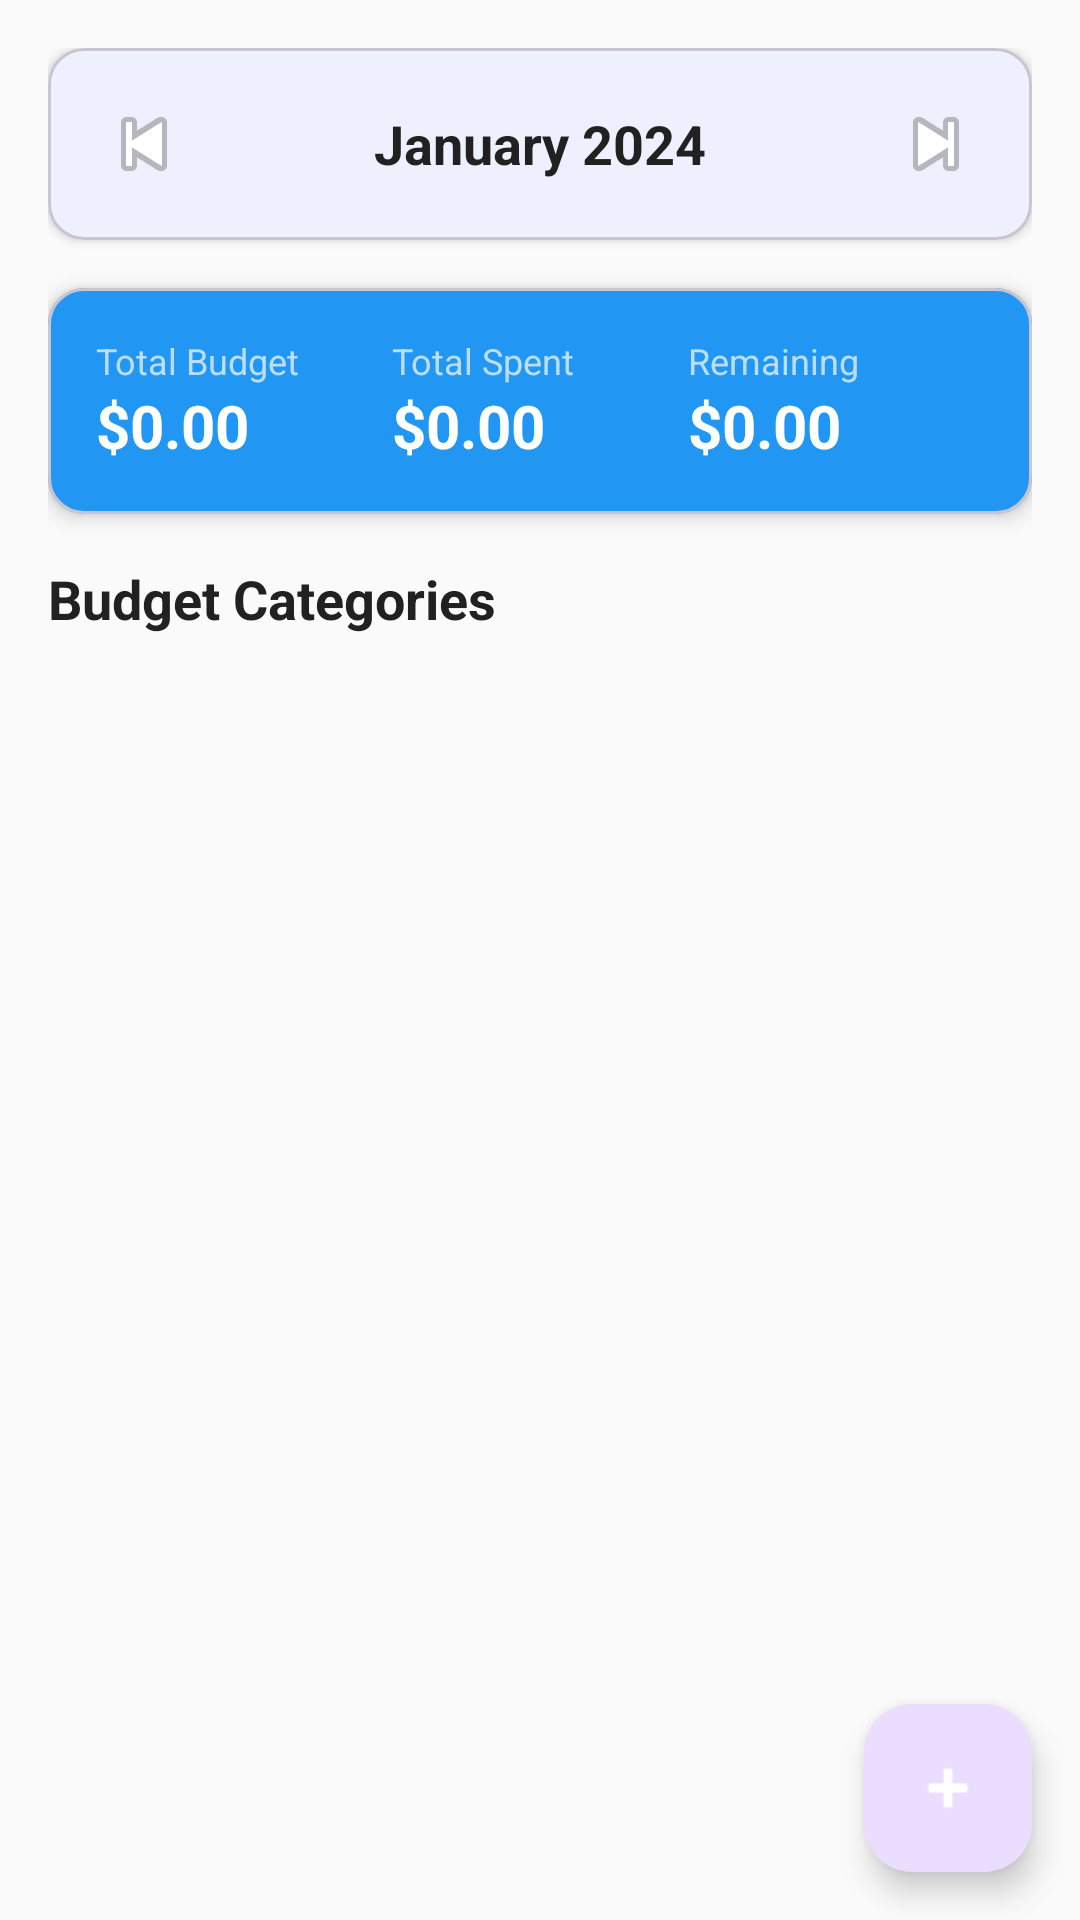

Point at icon controls on the screen. Image size 1080x1920, points as (x=x, y=y).
Add Budget: (x=948, y=1788)
Next Month: (x=936, y=144)
Previous Month: (x=144, y=144)
